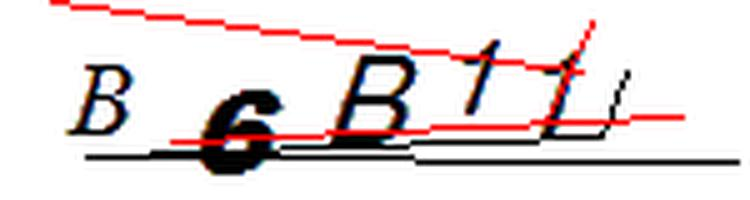1: (527, 44, 589, 148), (448, 33, 507, 125)
6: (195, 82, 287, 182)
B: (325, 46, 425, 157), (60, 58, 149, 143)
